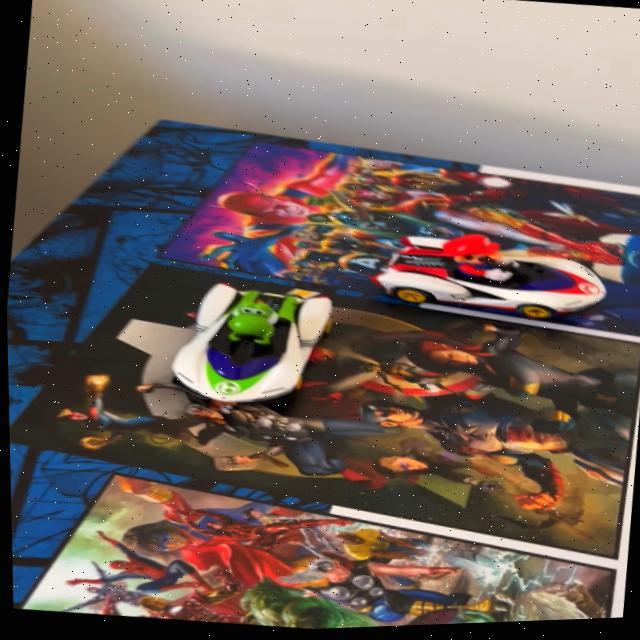mario: (354, 214, 631, 342)
yoshi: (149, 269, 345, 426)
